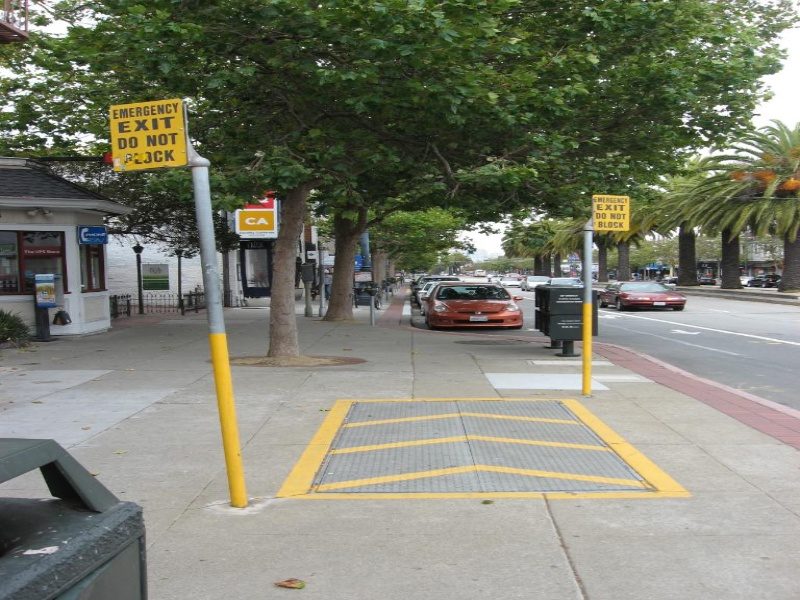emergency_exit: (107, 104, 195, 183), (582, 185, 647, 247)
